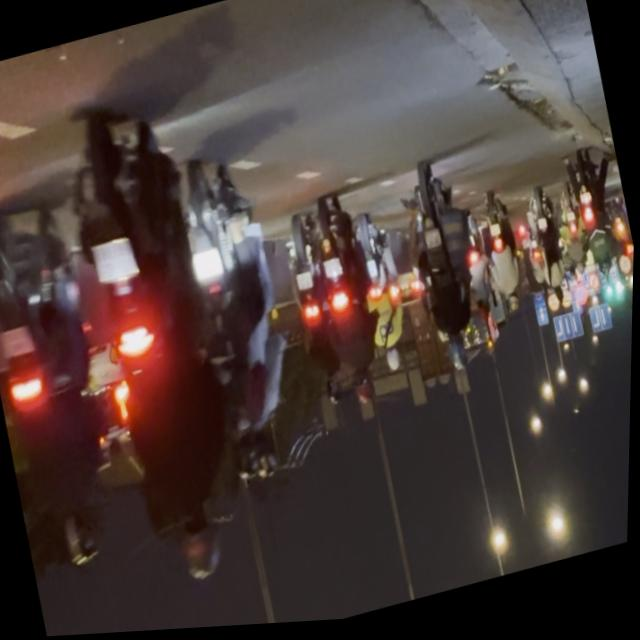helmet: (172, 508, 229, 589), (56, 501, 107, 573), (242, 428, 283, 489)
licenseplate: (43, 90, 272, 611), (158, 140, 321, 510), (0, 185, 145, 586)
nohelmet: (90, 238, 141, 290), (0, 325, 37, 363), (191, 251, 225, 287)
